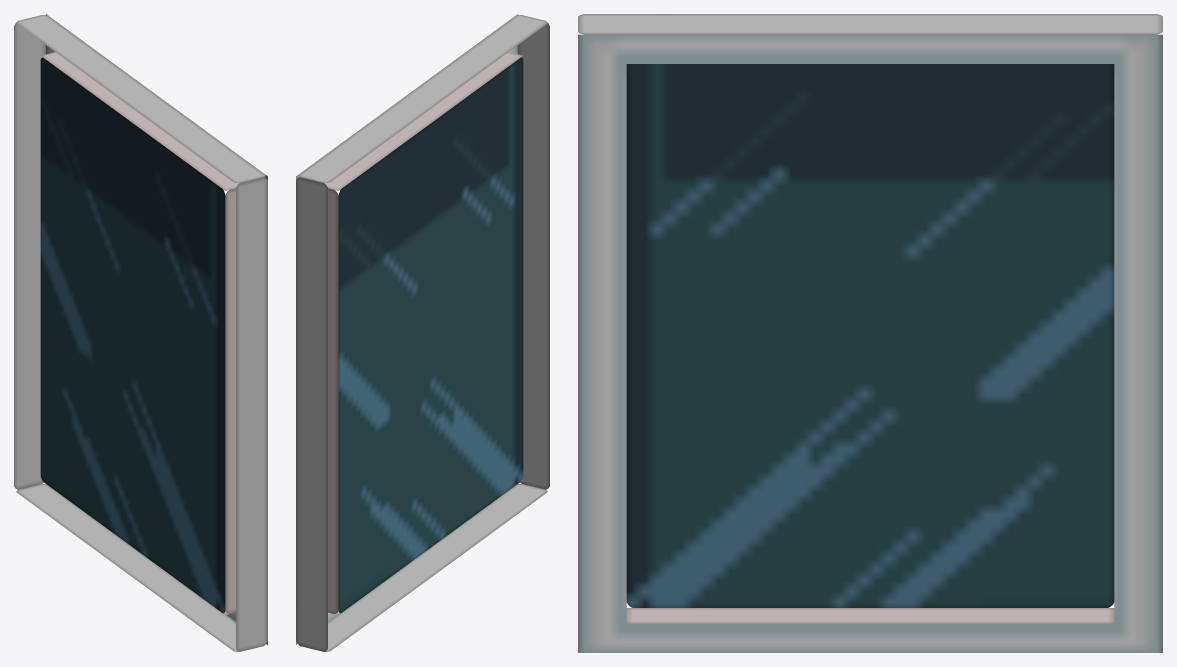
Rendered from WindowWhite.fbx.
The picture shows the model from 3 angles, left to right: view 1: azimuth 30°, elevation 25°; view 2: azimuth 150°, elevation 25°; view 3: azimuth 270°, elevation 25°; orthographic projection. The views are drawn at different scales.
Parts seen in each view (by area): view 1: plane; view 2: plane; view 3: plane.
Boxes of the visible parts, x1,y1,x2,y2 form: plane: [14, 14, 267, 651]; plane: [296, 14, 549, 651]; plane: [578, 14, 1162, 652].
Bounding box in the file's own units: 6.25 × 87.5 × 75.
1 material, 1 textured.
